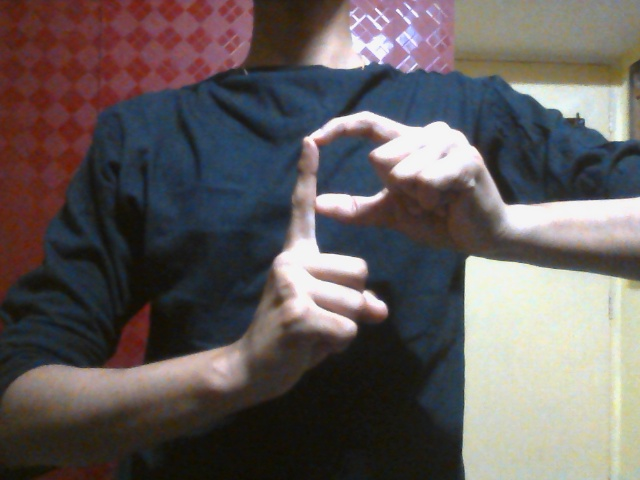P: (253, 111, 462, 378)
